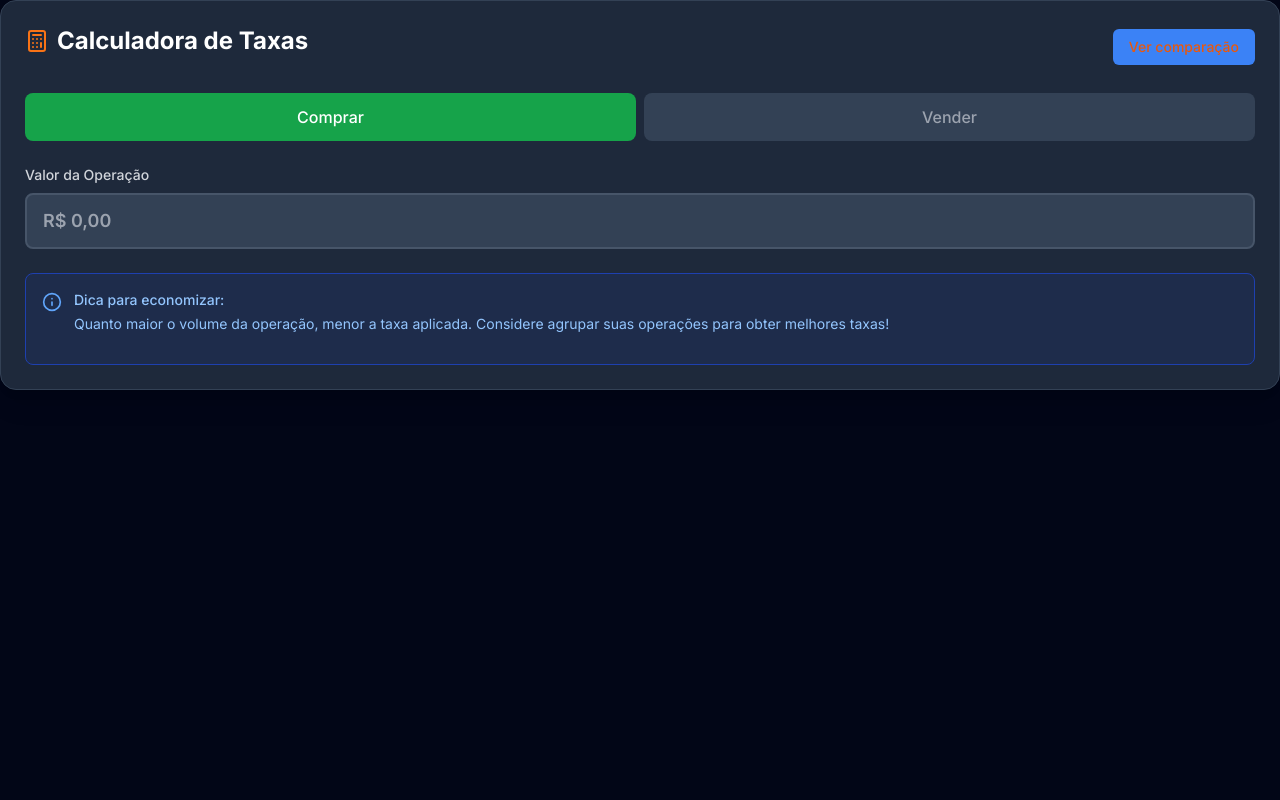
Test: FeeCalculator › calculates fees based on amount ranges
Type "50000" into the field with placeholder "R$ 0,00".
click(640, 221); type("50000")  # box 25,193 -> 1255,249
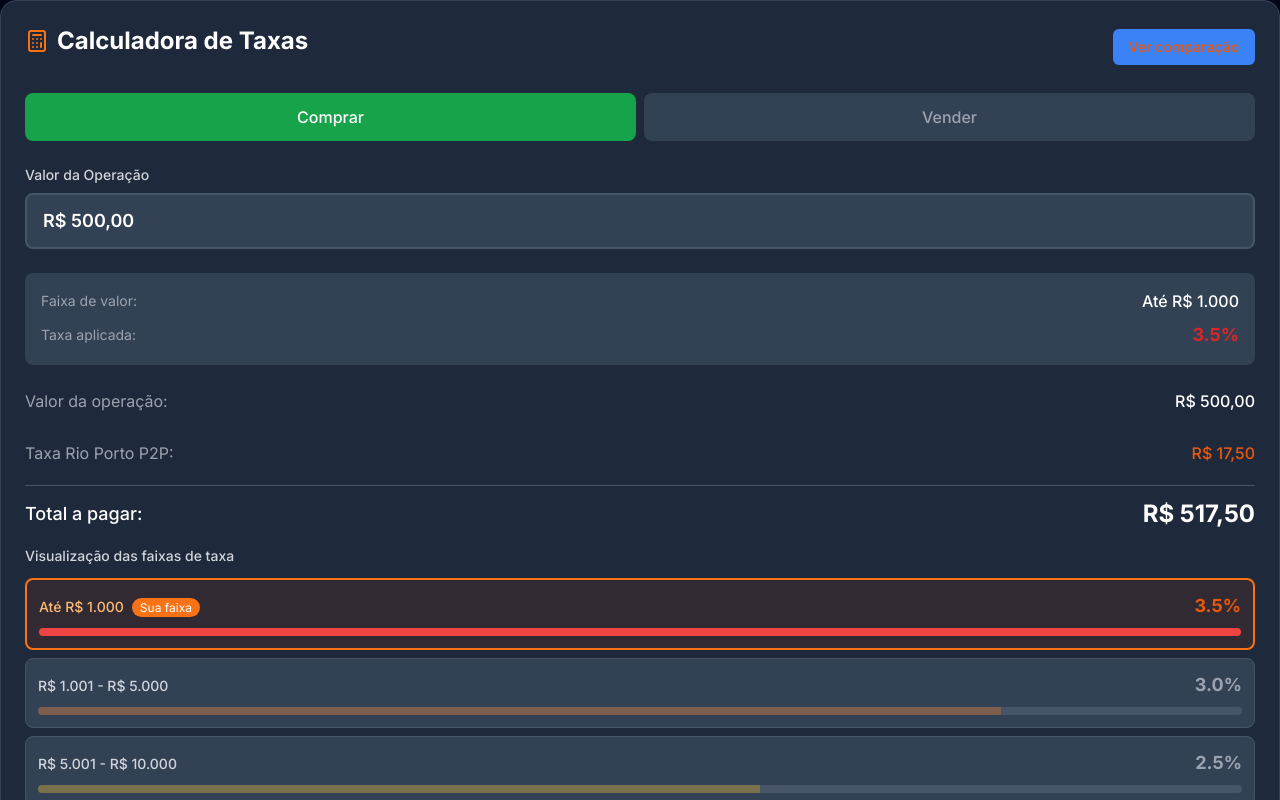
Expected: the text "Até R$ 1.000" in the row of "Faixa de valor:" is shown, 1142,291 -> 1239,311
Expected: the text "3.5%" in the row of "Taxa aplicada:" is shown, 1192,321 -> 1239,349
